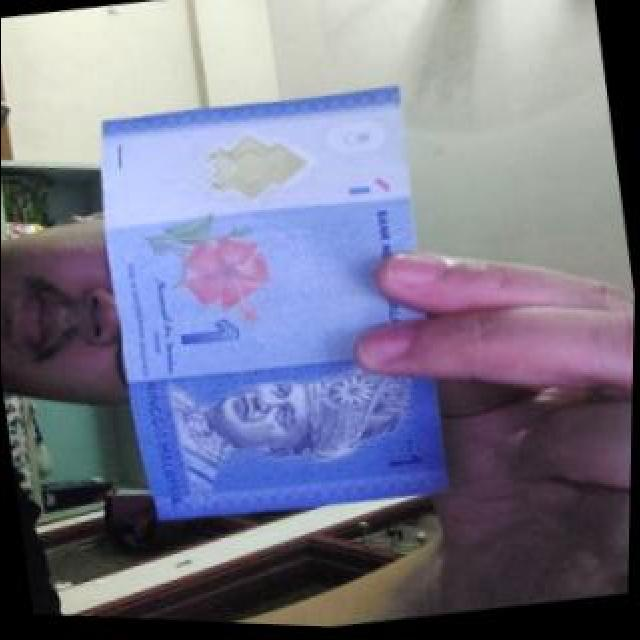1 Ringgit: (80, 78, 462, 545)
